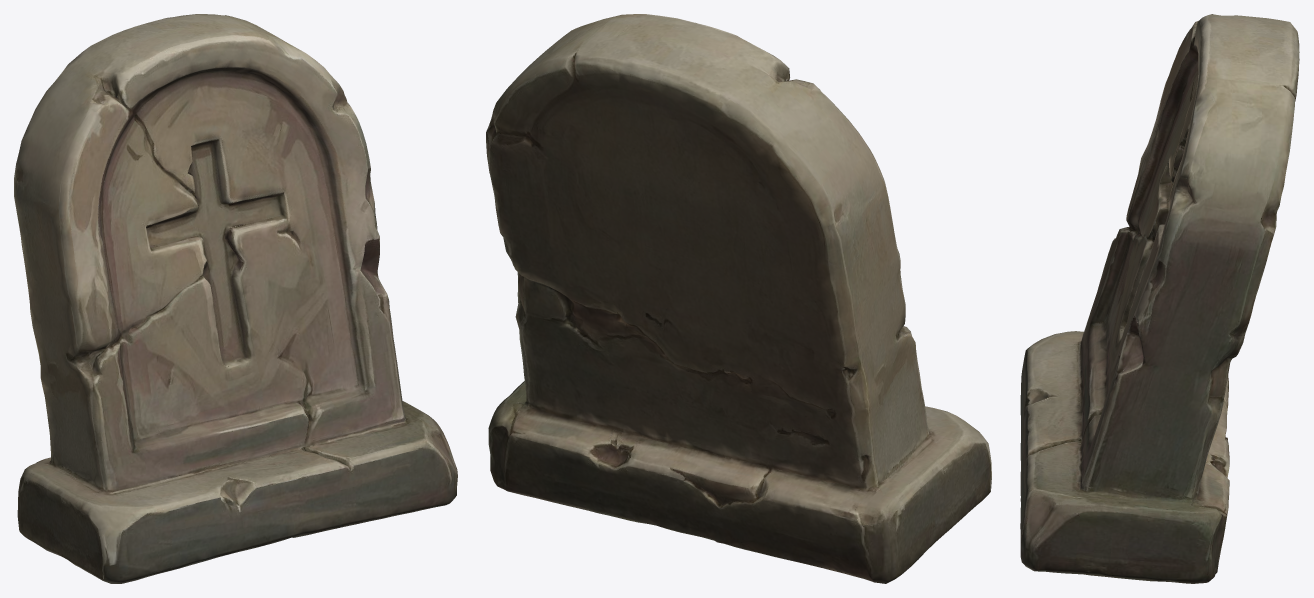
The model's file is varco_tomb.glb.
3 views of the same model, side by side, from view 1: azimuth 30°, elevation 25°; view 2: azimuth 150°, elevation 25°; view 3: azimuth 270°, elevation 25° (orthographic). The views are drawn at different scales.
Parts seen in each view (by area): view 1: texture_mapping; view 2: texture_mapping; view 3: texture_mapping.
Boxes of the visible parts, box(x1,y1,x2,y2) form: texture_mapping: box(14, 14, 457, 583); texture_mapping: box(486, 14, 991, 583); texture_mapping: box(1020, 14, 1299, 583).
Bounding box in the file's own units: 0.8261 × 0.9998 × 0.5461.
Materials: 1 (1 with a texture image).
